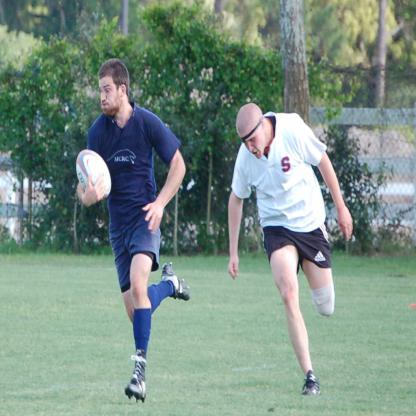Ball: (77, 152, 110, 197)
